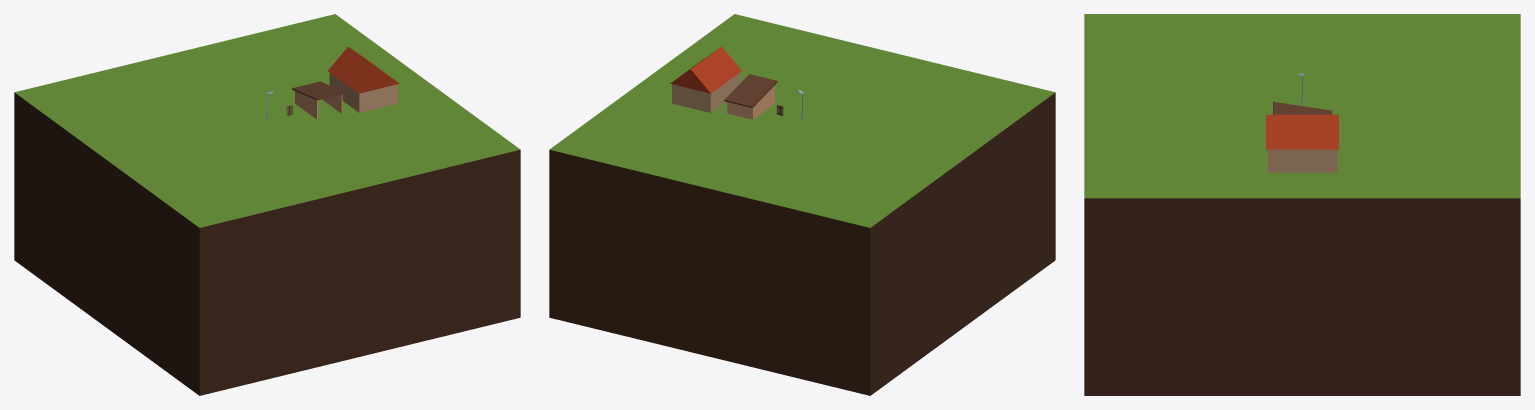
The picture shows the model from 3 angles, left to right: view 1: azimuth 30°, elevation 25°; view 2: azimuth 150°, elevation 25°; view 3: azimuth 270°, elevation 25°; orthographic projection. The views are drawn at different scales.
Visible parts, largest first — view 1: Ground, House, Barn; view 2: Ground, House, Barn; view 3: Ground, House, Barn.
Boxes of the visible parts, x1,y1,x2,y2 form: Ground: (14,14,520,395); House: (328,46,399,112); Barn: (292,81,345,119); Ground: (549,14,1055,395); House: (670,46,741,112); Barn: (724,74,777,119); Ground: (1084,14,1520,395); House: (1266,114,1338,172); Barn: (1273,101,1332,114).
Size of the model in its own units: 50 by 30.9 by 50.
5 materials, 5 textured.
